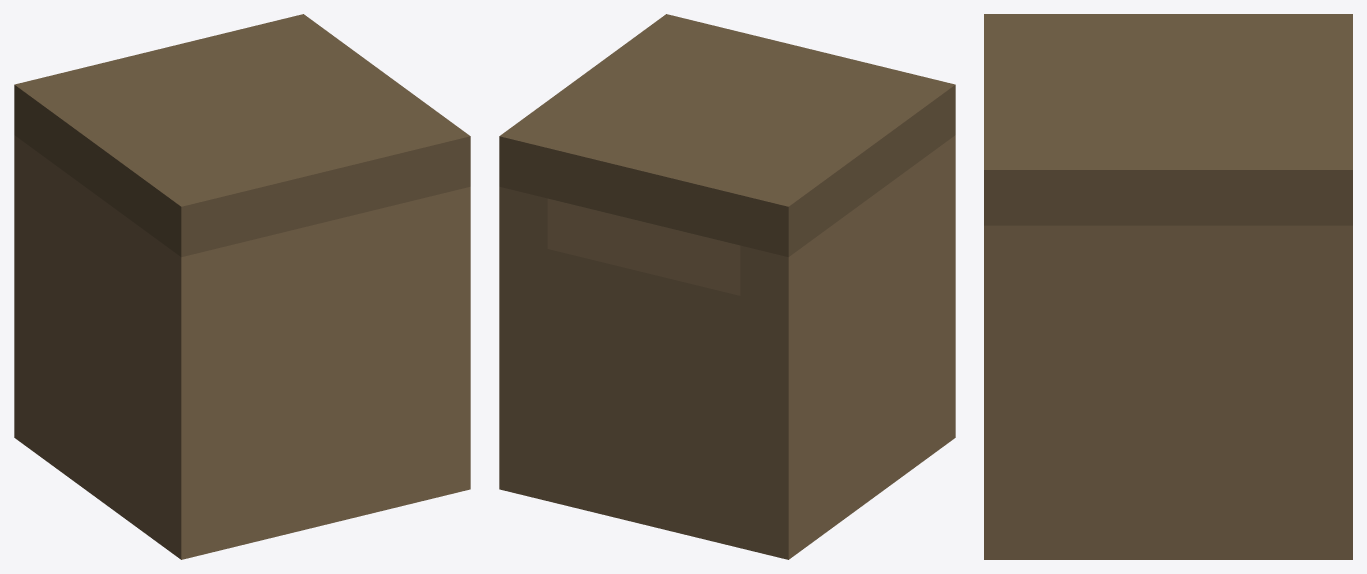
File: reloj_pared_roble_01.glb
3 views of the same model, side by side, from view 1: azimuth 30°, elevation 25°; view 2: azimuth 150°, elevation 25°; view 3: azimuth 270°, elevation 25° (orthographic). The views are drawn at different scales.
Visible parts, largest first — view 1: reloj_pared_roble; view 2: reloj_pared_roble; view 3: reloj_pared_roble.
Boxes of the visible parts, box(x1,y1,x2,y2) form: reloj_pared_roble: box(14, 14, 470, 559); reloj_pared_roble: box(499, 14, 955, 559); reloj_pared_roble: box(984, 14, 1352, 559).
Bounding box in the file's own units: 0.6 × 0.7 × 0.6.
